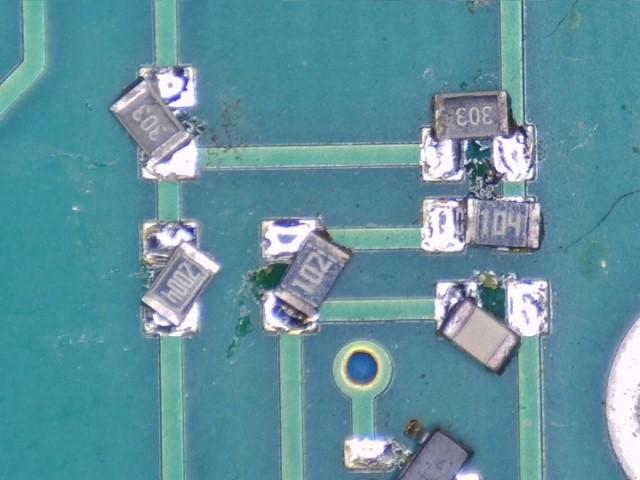pcb_defect: (434, 278, 550, 375), (260, 218, 354, 333), (420, 90, 535, 182), (107, 66, 197, 179), (140, 220, 222, 335), (343, 419, 479, 480), (422, 197, 542, 252)
